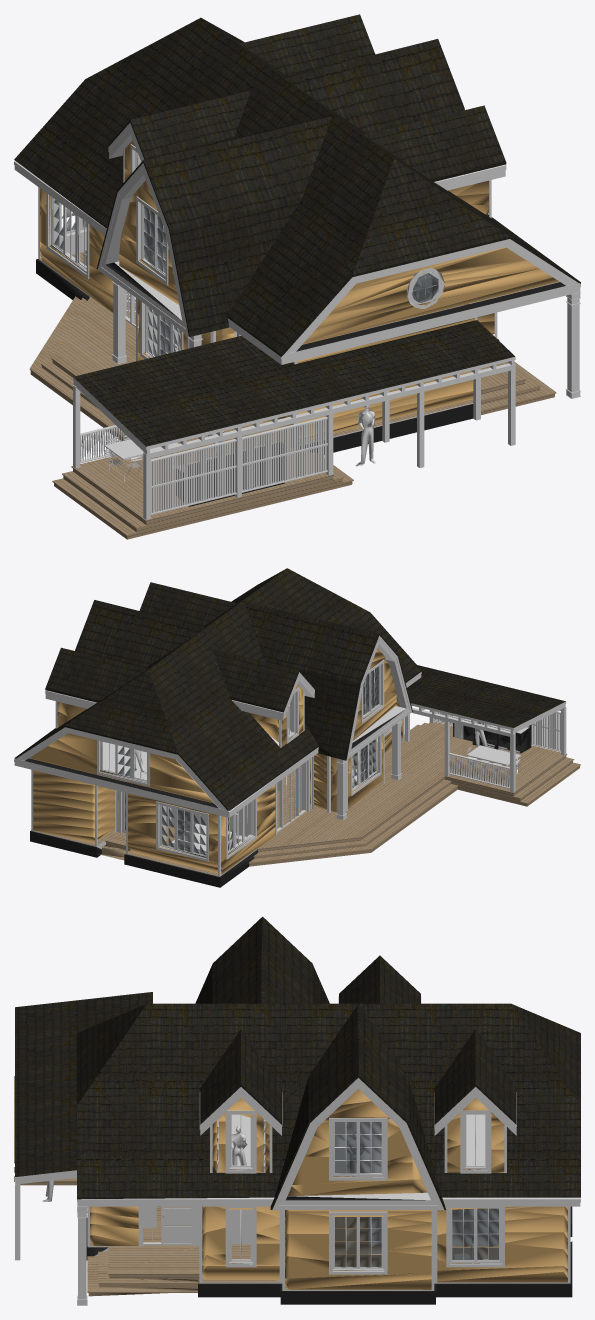
The model's file is suburban-bogdan-y270.far.glb.
The picture shows the model from 3 angles, top to bottom: view 1: azimuth 30°, elevation 25°; view 2: azimuth 150°, elevation 25°; view 3: azimuth 270°, elevation 25°; orthographic projection. The views are drawn at different scales.
Visible parts, largest first — view 1: roof_roof_0, white_white_0, floor_floor_0, siding_siding_0, object 4, glass_glass_0; view 2: roof_roof_0, white_white_0, floor_floor_0, siding_siding_0, object 4, glass_glass_0; view 3: roof_roof_0, white_white_0, siding_siding_0, floor_floor_0, glass_glass_0, object 4.
Part boxes in pixels (box(x1,y1,x2,y2)): roof_roof_0: box(14, 14, 580, 446); white_white_0: box(14, 122, 580, 519); floor_floor_0: box(29, 252, 556, 539); siding_siding_0: box(40, 140, 559, 440); object 4: box(36, 227, 565, 506); glass_glass_0: box(54, 199, 438, 356); roof_roof_0: box(14, 568, 565, 810); white_white_0: box(14, 635, 566, 876); floor_floor_0: box(33, 721, 580, 875); siding_siding_0: box(30, 648, 402, 874); object 4: box(25, 710, 531, 887); glass_glass_0: box(118, 666, 378, 855); roof_roof_0: box(15, 916, 580, 1209); white_white_0: box(15, 996, 580, 1305); siding_siding_0: box(90, 1089, 567, 1289); floor_floor_0: box(14, 1076, 567, 1296); glass_glass_0: box(335, 1122, 498, 1267); object 4: box(86, 1196, 572, 1304).
Bounding box in the file's own units: 15.58 × 7.45 × 16.43.
6 materials, 2 textured.
